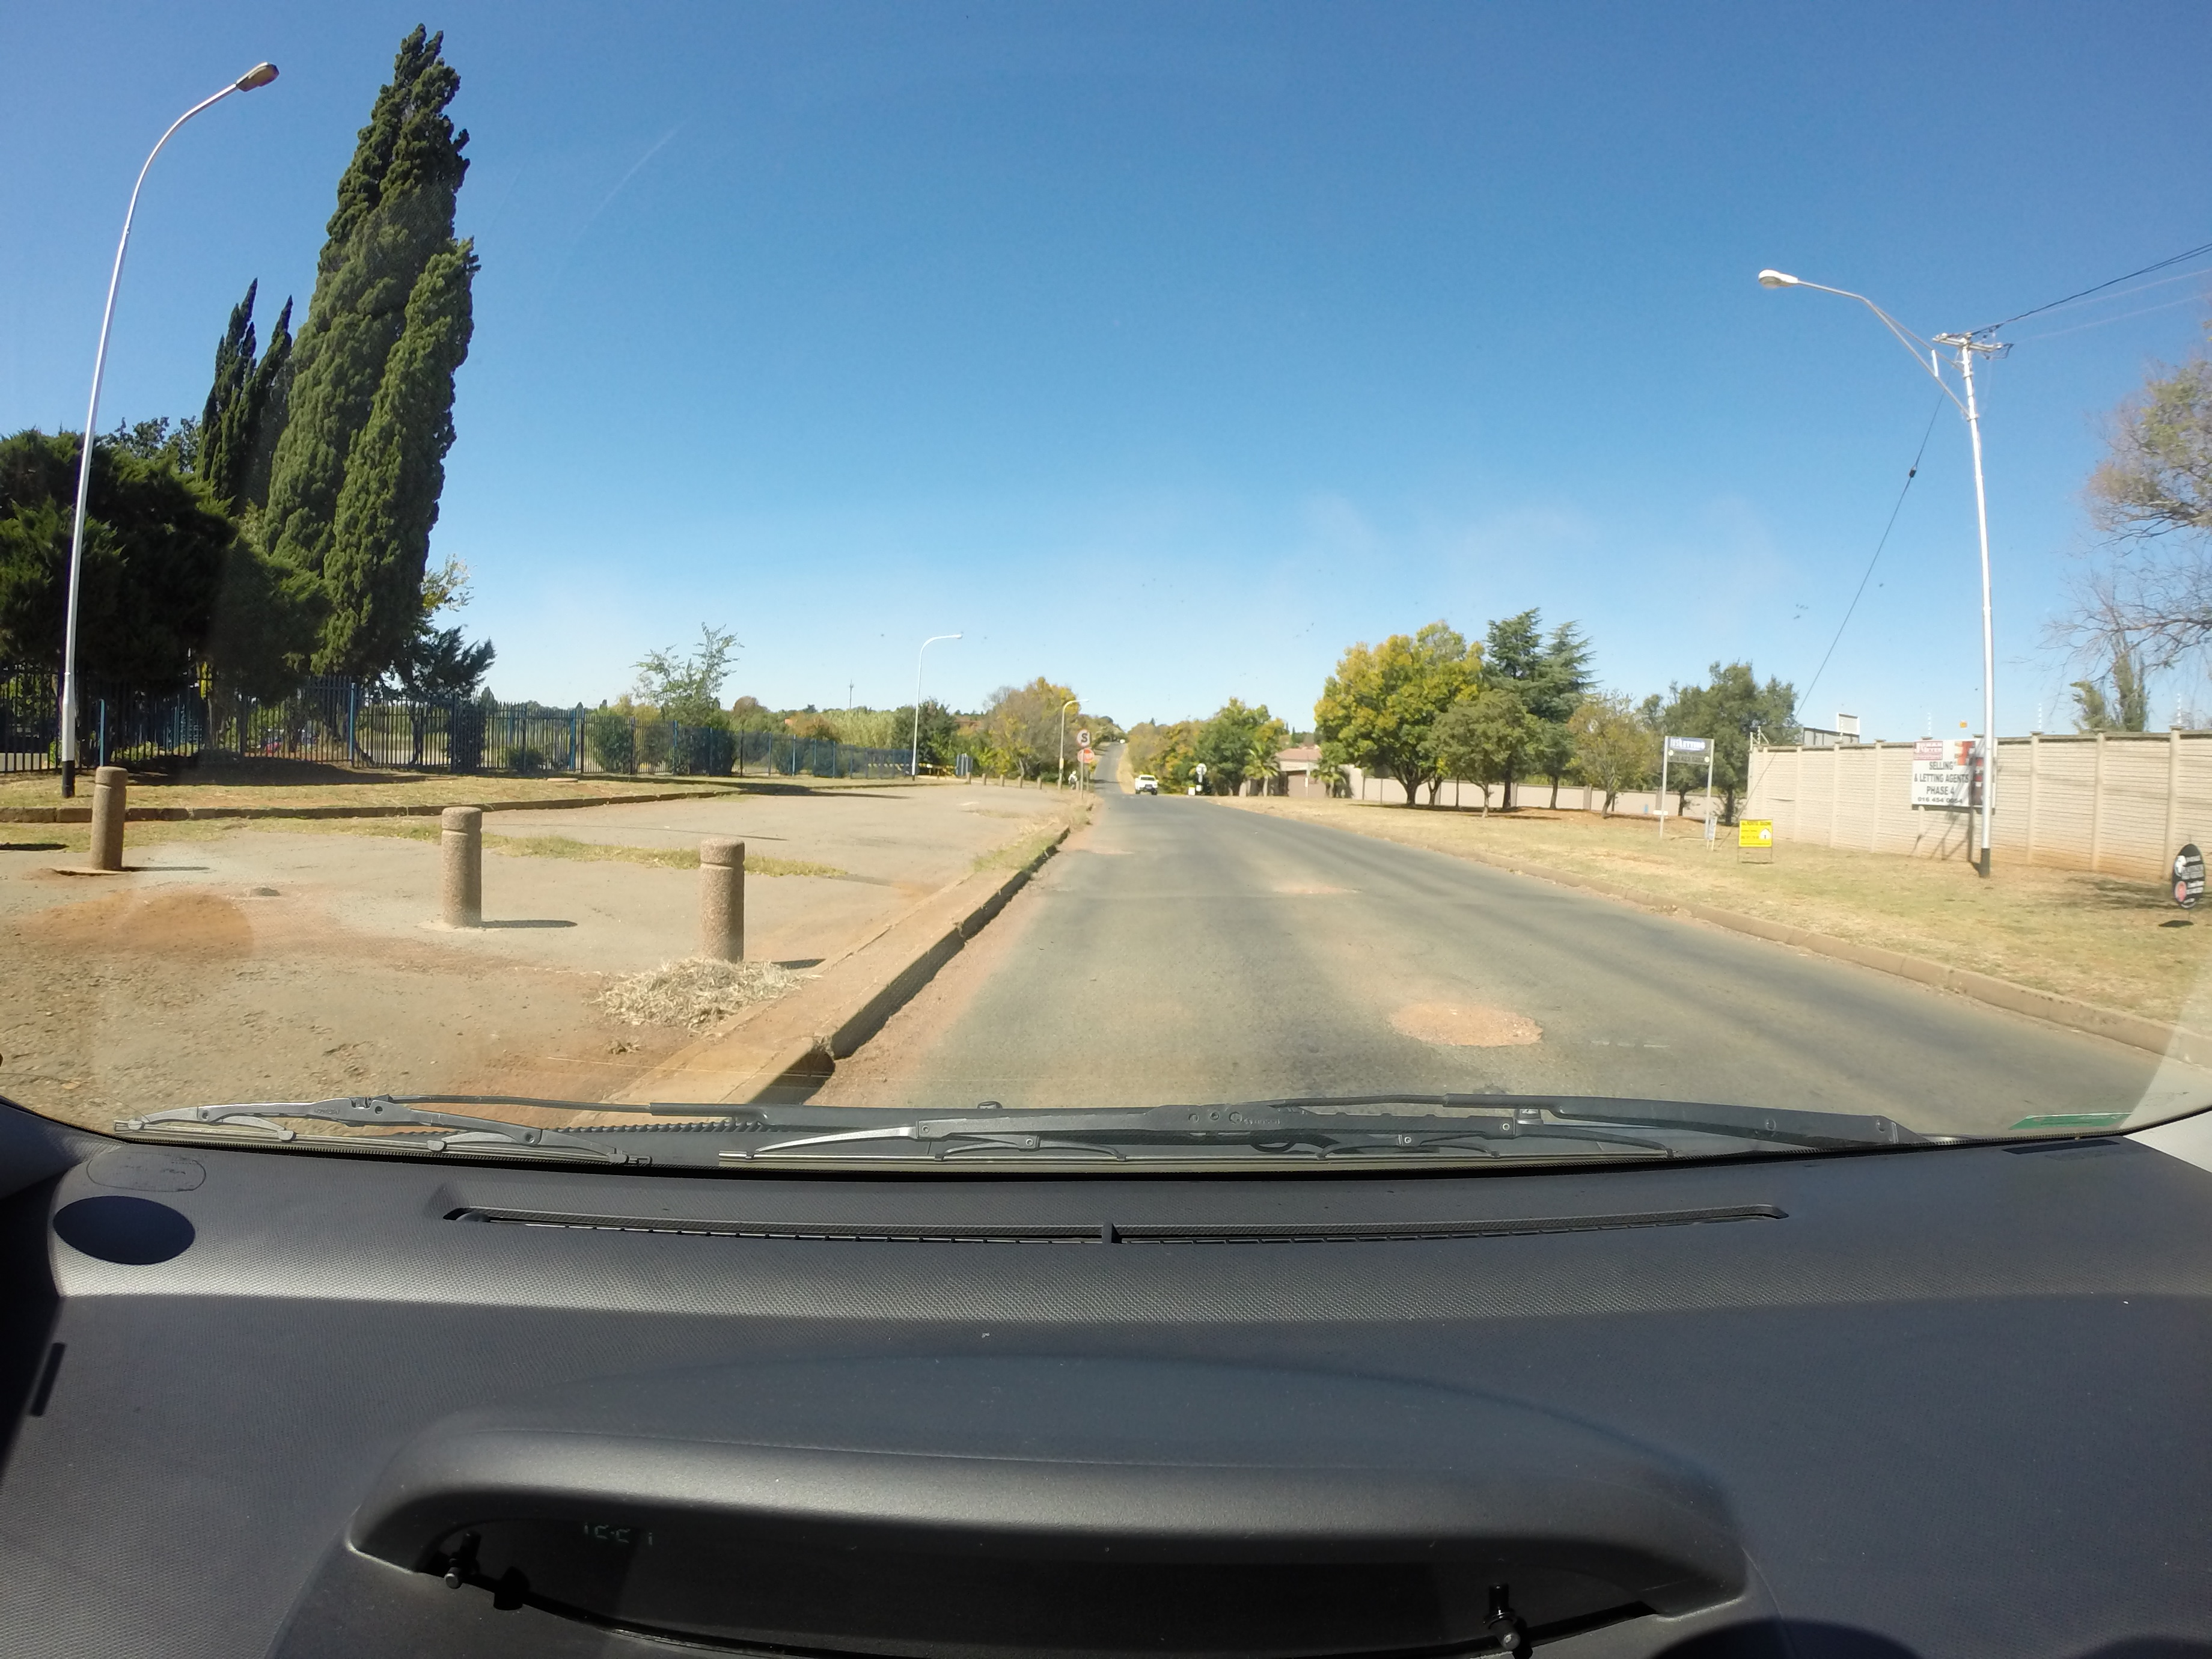pothole: (1379, 990, 1566, 1056), (1273, 875, 1371, 904), (1075, 842, 1146, 859)
